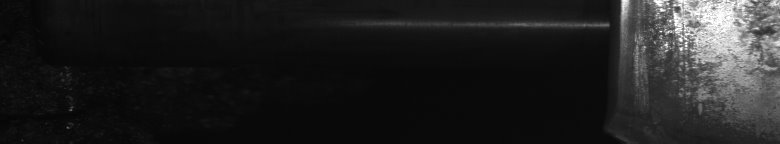kb: (628, 4, 776, 114)
